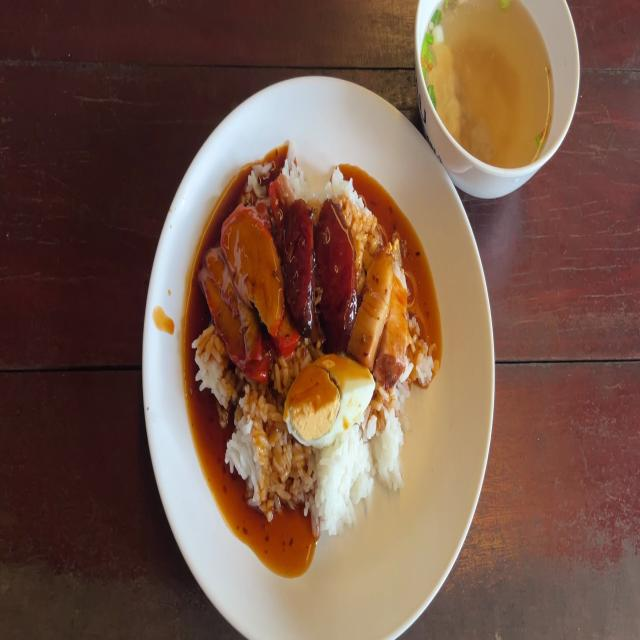red_pork_and_crispy_pork: (294, 354, 370, 440)
stir_fried_basil: (280, 201, 350, 340), (316, 203, 355, 347), (283, 202, 317, 327)
